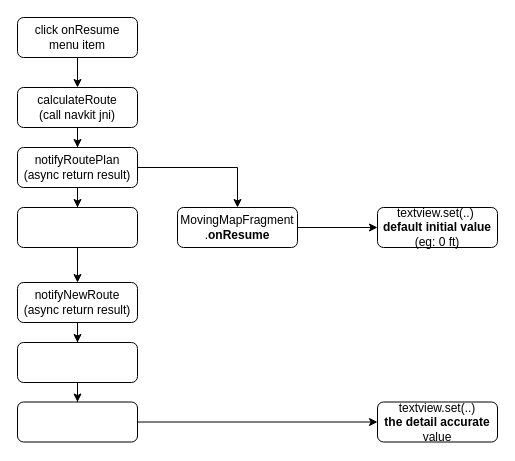
The diagram is 515 pixels wide and 461 high, and some of its shapes have lost their labels. The shapes that lost their labels are listed below. From the top down, each one's centre as x and y in pixels, then its label:
At (x=77, y=227): "startNavigation (call navkit jni)".
At (x=77, y=362): "setRoute set the detail route".
At (x=77, y=421): "notify".
